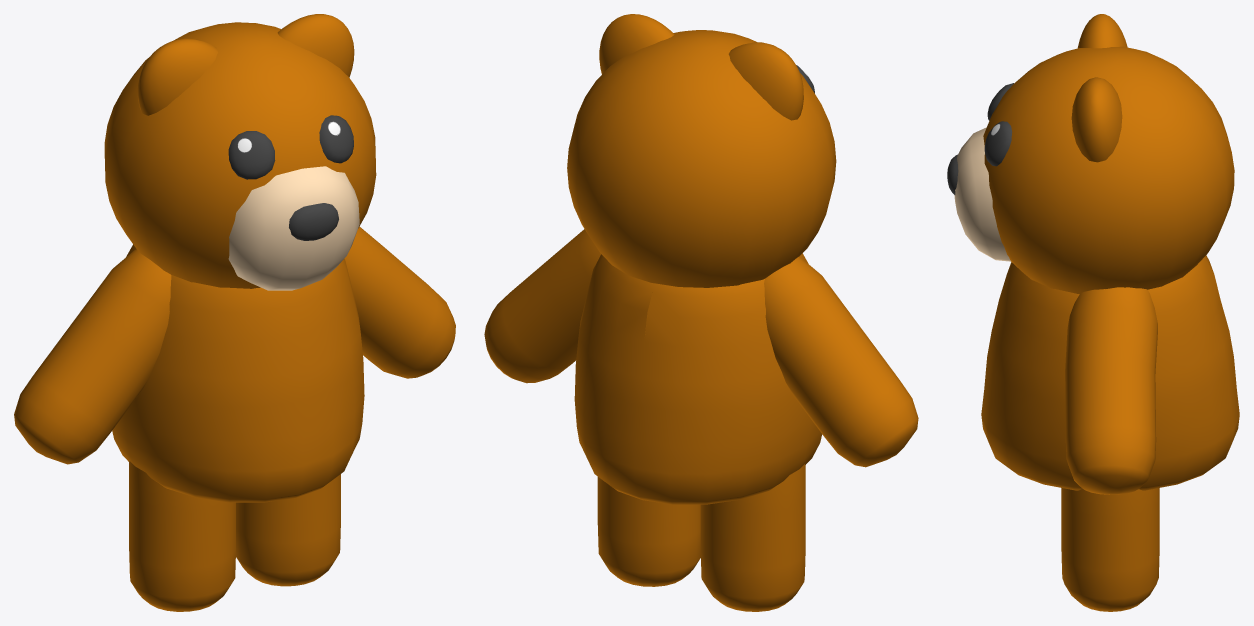
The model's file is dollbear_01.fbx.
3 views of the same model, side by side, from view 1: azimuth 30°, elevation 25°; view 2: azimuth 150°, elevation 25°; view 3: azimuth 270°, elevation 25° (orthographic). The views are drawn at different scales.
Parts seen in each view (by area): view 1: bear_hed, body, arm_right, leg_right, arm_left, leg_left; view 2: bear_hed, body, arm_right, leg_right, arm_left, leg_left; view 3: bear_hed, body, arm_left, leg_left.
Part boxes in pixels (x1,y1,x2,y2): bear_hed: (104, 14, 376, 290); body: (112, 244, 364, 502); arm_right: (14, 249, 171, 464); leg_right: (129, 461, 235, 611); arm_left: (344, 226, 455, 378); leg_left: (236, 474, 340, 586); bear_hed: (567, 14, 836, 287); body: (574, 253, 822, 504); arm_right: (764, 256, 918, 467); leg_right: (700, 464, 805, 611); arm_left: (484, 229, 600, 383); leg_left: (597, 477, 700, 586); bear_hed: (947, 14, 1234, 293); body: (981, 255, 1239, 490); arm_left: (1065, 287, 1157, 494); leg_left: (1061, 488, 1159, 611).
Size of the model in its own units: 41.24 by 51.71 by 25.95.
Materials: 2 (2 with a texture image).
